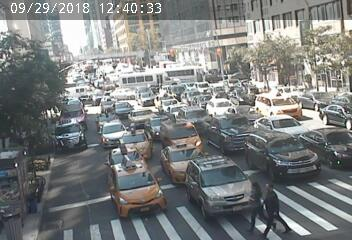car: (187, 160, 252, 217), (251, 134, 306, 178), (107, 165, 161, 207), (204, 116, 262, 149), (309, 125, 350, 166), (252, 111, 306, 140), (160, 122, 203, 150), (126, 122, 156, 158), (258, 92, 302, 113), (164, 148, 195, 176), (55, 125, 87, 152), (119, 73, 204, 83), (110, 148, 142, 168), (65, 100, 90, 125), (101, 119, 123, 147), (211, 99, 238, 116), (135, 87, 155, 109), (178, 109, 207, 123), (131, 114, 160, 127), (115, 101, 137, 115), (170, 104, 188, 116), (182, 88, 196, 98), (153, 92, 165, 103), (162, 100, 175, 109)
